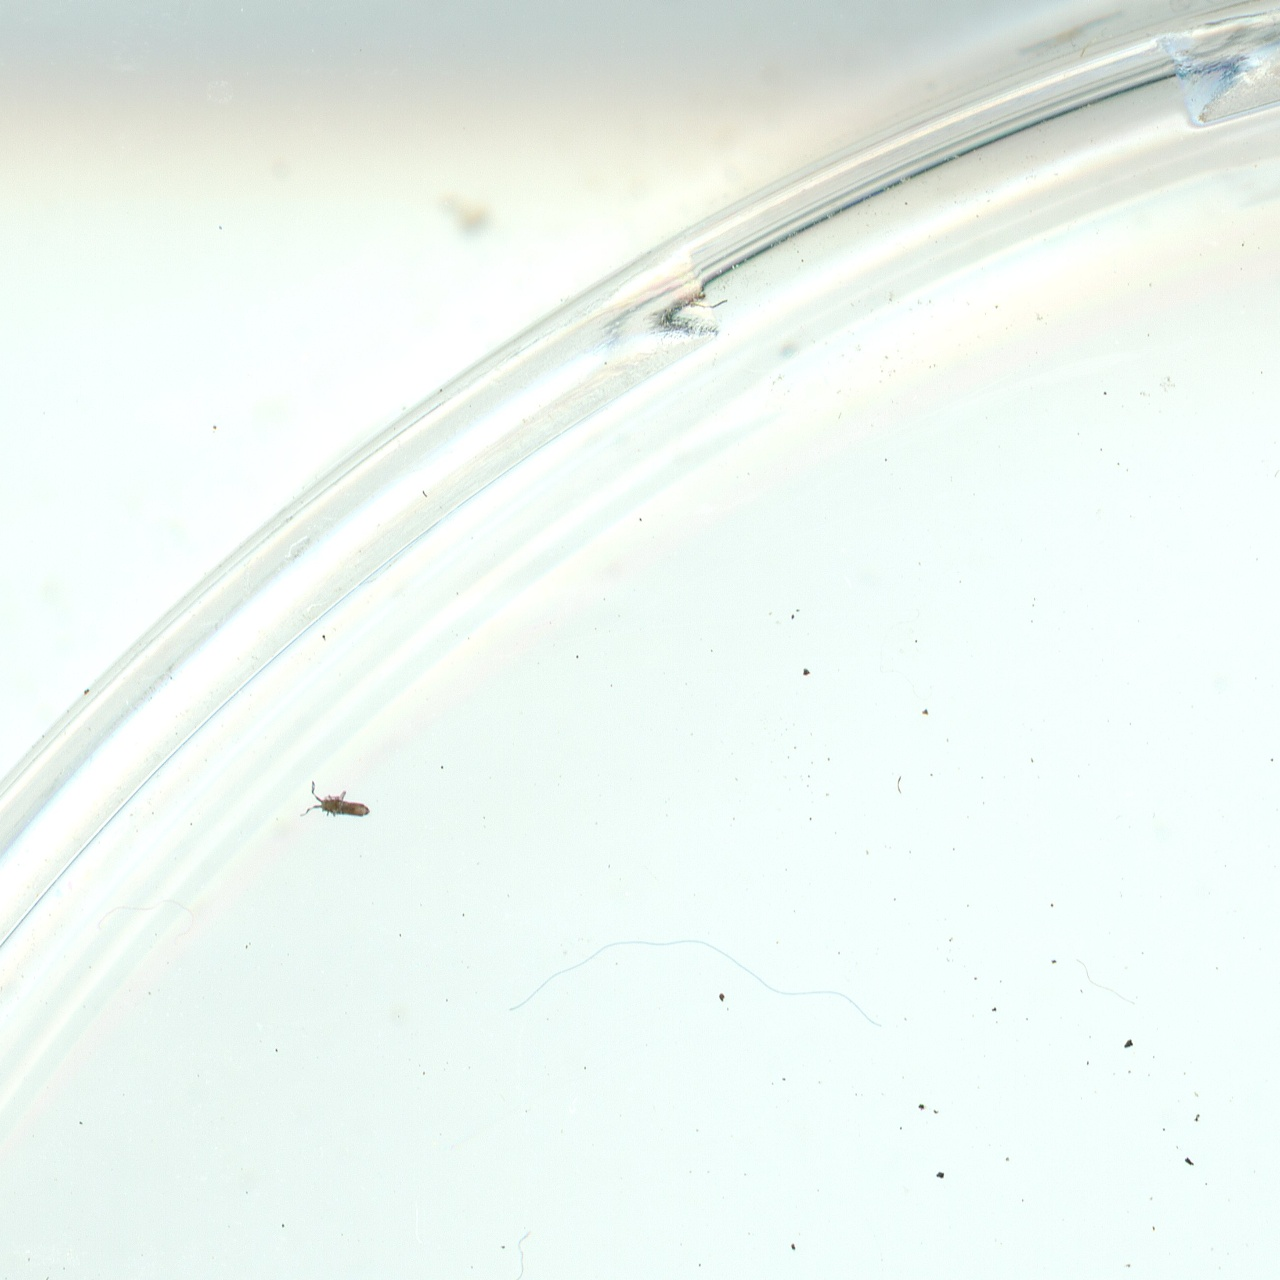arthropod: (296, 774, 374, 831)
